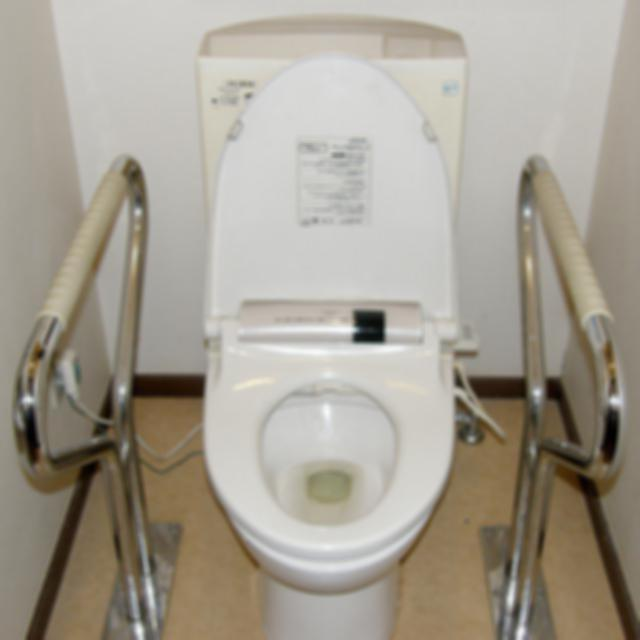Sanitario: (195, 16, 495, 639)
